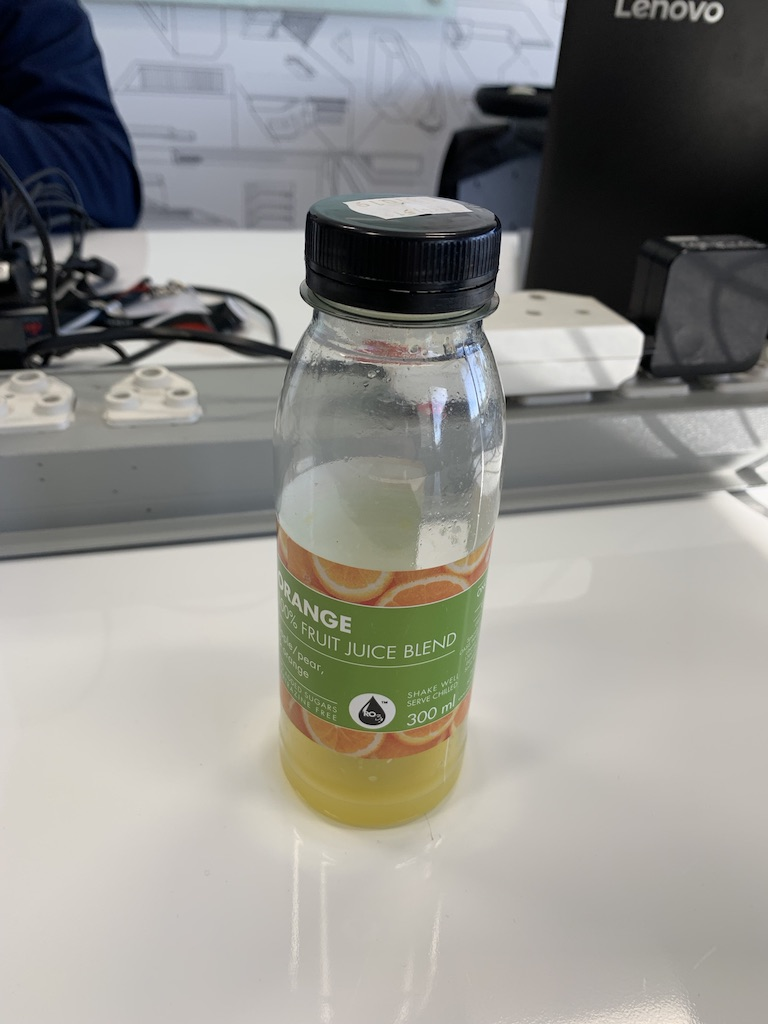bottle: (253, 179, 522, 844)
